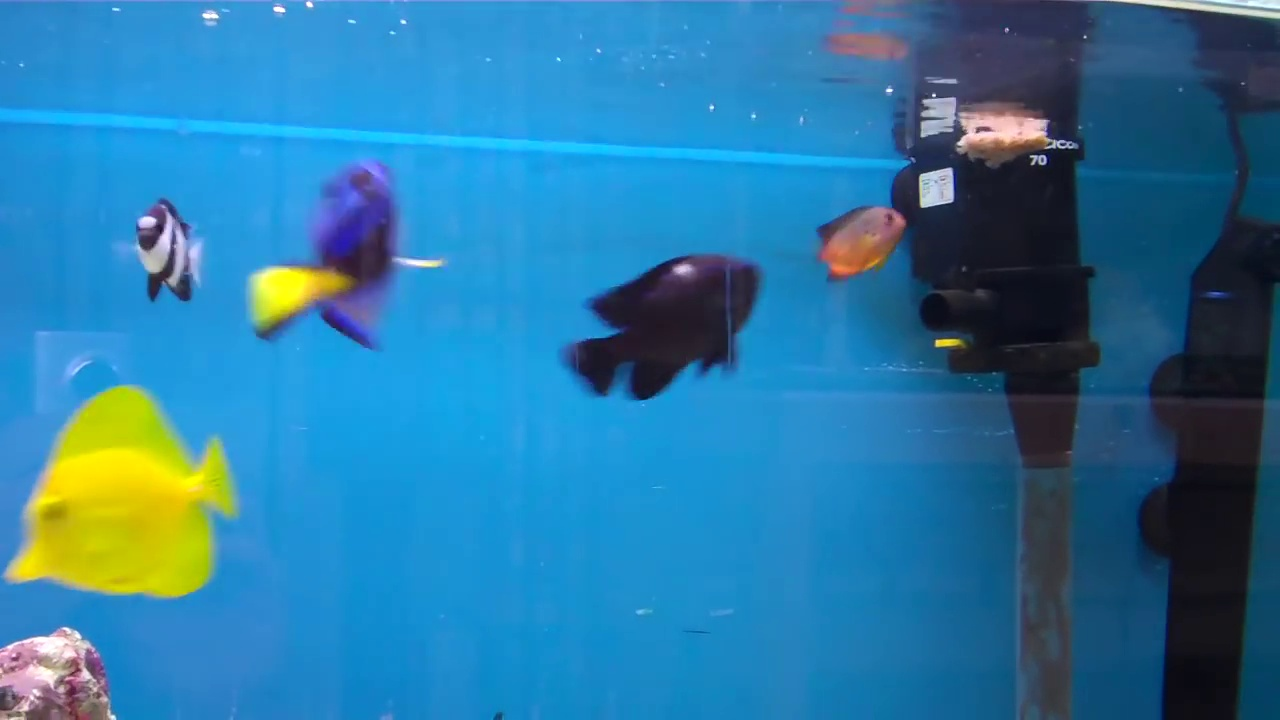blue tang surgeonfish: (260, 155, 404, 367)
saddle butterfly fish: (0, 365, 253, 620)
